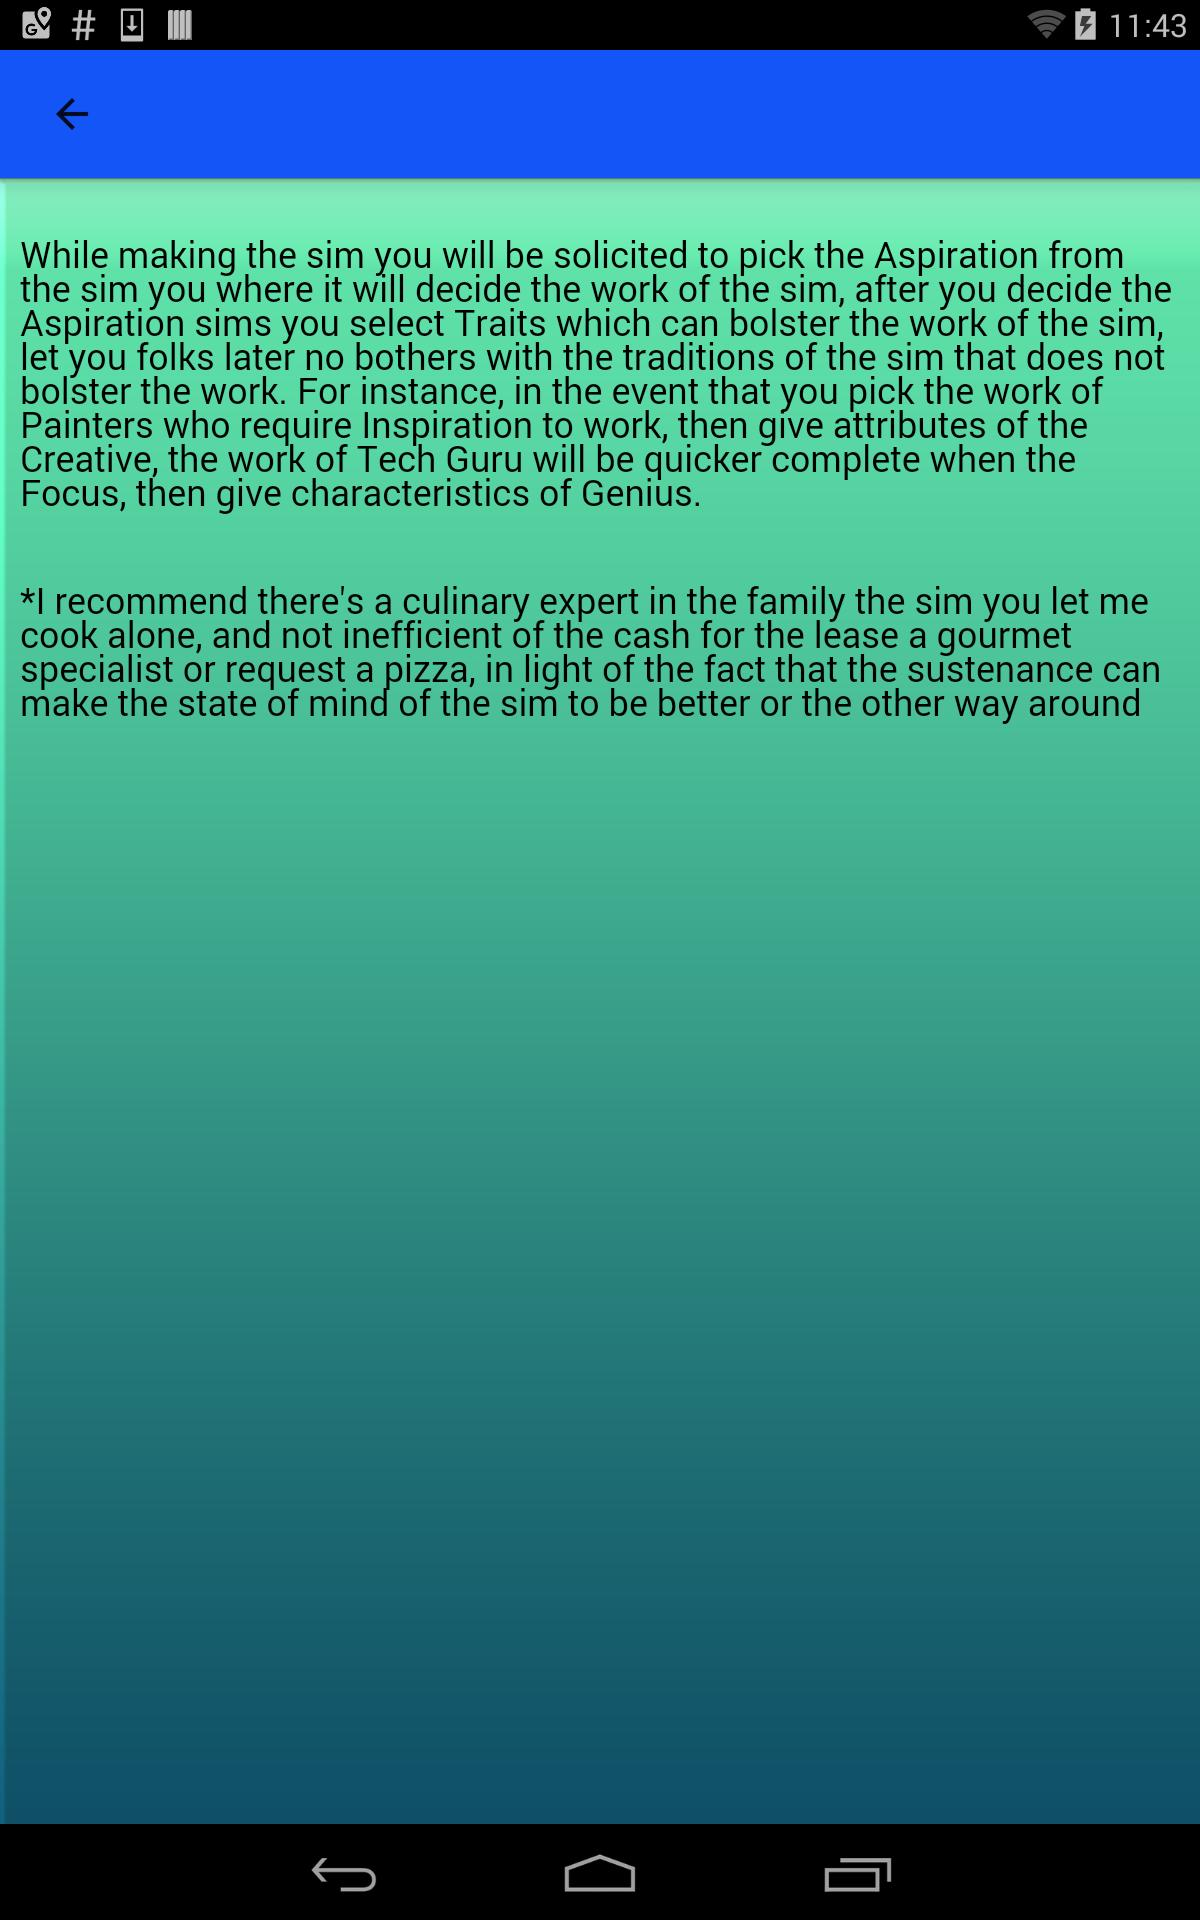android.view.View: (0, 50, 1200, 1825), (0, 178, 1200, 1825), (19, 218, 1181, 516), (19, 564, 1181, 726), (0, 50, 1200, 178), (19, 510, 1181, 564)
android.widget.FrameLayout: (0, 0, 1200, 1825), (0, 50, 1200, 1825), (0, 178, 1200, 1825), (0, 50, 1200, 178)
android.widget.ImageButton: (17, 50, 129, 178)
android.widget.LinearLayout: (0, 0, 1200, 1825), (0, 178, 1200, 1825)
